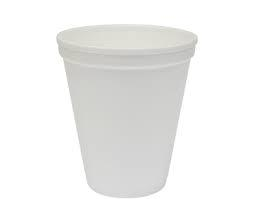Plastic cup: (48, 17, 201, 199)
